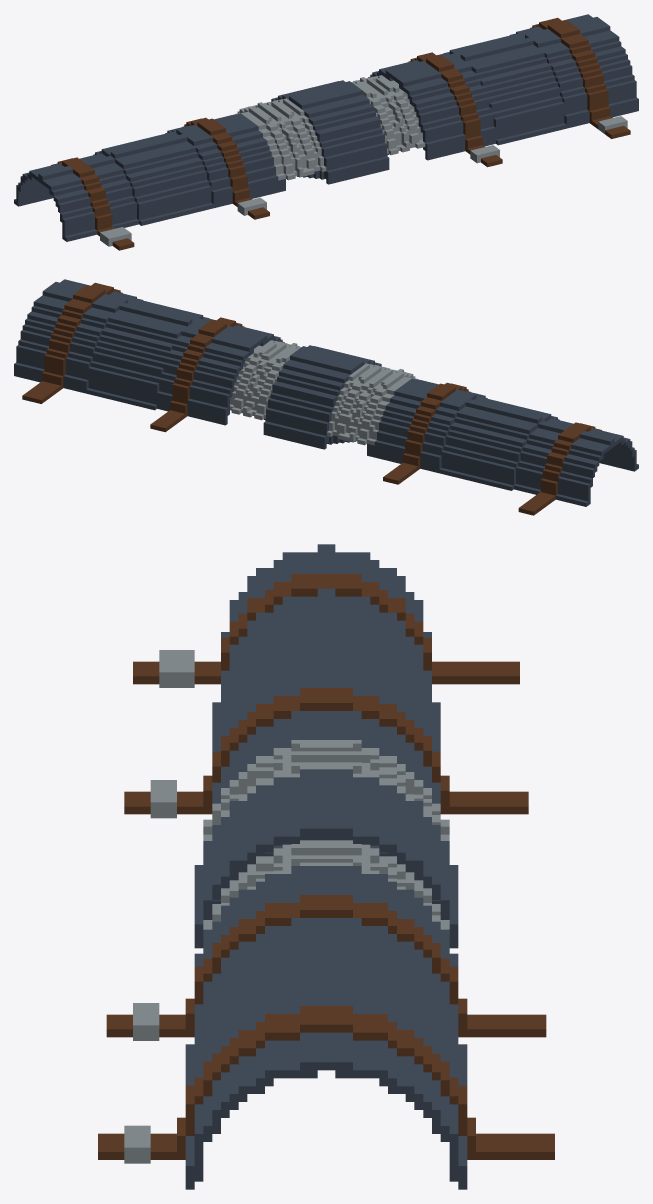
File: armor_ch_armguard.glb
The picture shows the model from 3 angles, top to bottom: view 1: azimuth 30°, elevation 25°; view 2: azimuth 150°, elevation 25°; view 3: azimuth 270°, elevation 25°; orthographic projection. The views are drawn at different scales.
Visible parts, largest first — view 1: armor_ch_armguard:compound; view 2: armor_ch_armguard:compound; view 3: armor_ch_armguard:compound.
Boxes of the visible parts, bbox=[...] form: armor_ch_armguard:compound: bbox=[14, 14, 638, 250]; armor_ch_armguard:compound: bbox=[14, 279, 638, 515]; armor_ch_armguard:compound: bbox=[98, 544, 554, 1189].
Size of the model in its own units: 0.592 by 0.068 by 0.208.
